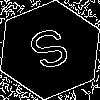S: (25, 25, 78, 81)
